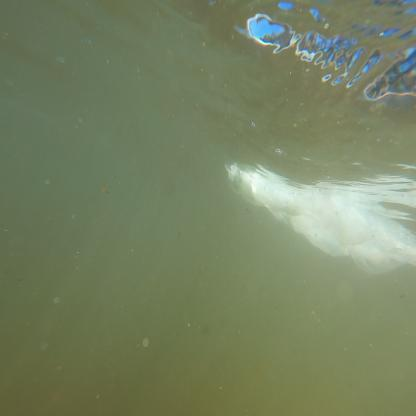Rác: (224, 151, 416, 279)
